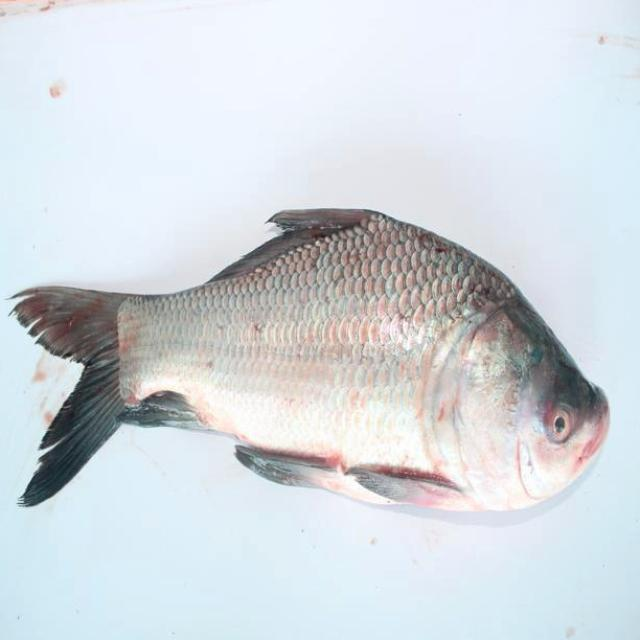Catla: (6, 206, 614, 510)
